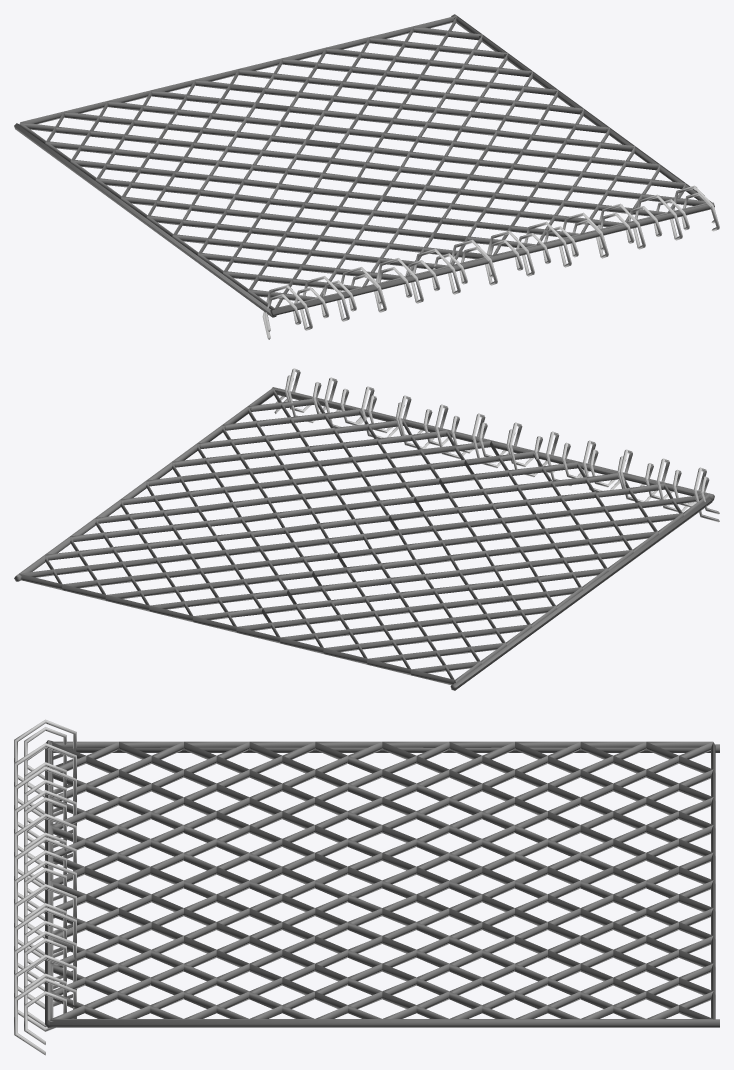
File: chainlink_top.fbx
3 views of the same model, one above another, from view 1: azimuth 30°, elevation 25°; view 2: azimuth 150°, elevation 25°; view 3: azimuth 270°, elevation 25° (orthographic). The views are drawn at different scales.
Visible parts, largest first — view 1: Plane01_None.001, Spring01_None.001, Spring02_None.001, Cylinder02_None.001, Cylinder03_None, Cylinder03_None.001; view 2: Plane01_None.001, Spring01_None.001, Spring02_None.001, Cylinder03_None, Cylinder02_None.001, Cylinder03_None.001; view 3: Plane01_None.001, Spring01_None.001, Cylinder03_None.001, Spring02_None.001, Cylinder03_None, Cylinder02_None.001.
Boxes of the visible parts, x1,y1,x2,y2 form: Plane01_None.001: (19,15,710,309); Spring01_None.001: (262,185,719,339); Spring02_None.001: (265,193,715,331); Cylinder02_None.001: (270,202,714,316); Cylinder03_None: (14,123,276,317); Cylinder03_None.001: (451,14,712,202); Plane01_None.001: (19,387,709,685); Spring01_None.001: (274,368,719,522); Spring02_None.001: (276,375,719,514); Cylinder03_None: (450,498,713,690); Cylinder02_None.001: (272,387,714,500); Cylinder03_None.001: (14,389,275,581); Plane01_None.001: (50,741,715,1019); Spring01_None.001: (14,719,76,1055); Cylinder03_None.001: (49,1019,719,1027); Spring02_None.001: (24,727,66,1044); Cylinder03_None: (53,744,719,752); Cylinder02_None.001: (45,740,53,1027).
Bounding box in the file's own units: 59.47 × 6.42 × 62.33.
1 material, 1 textured.
